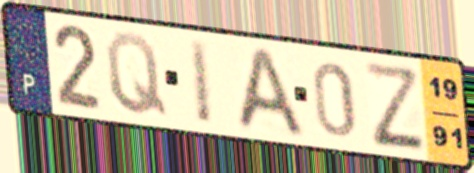0: (310, 59, 360, 139)
2: (51, 22, 105, 115)
A: (232, 44, 309, 141)
I: (186, 36, 216, 127)
Q: (103, 30, 171, 120)
Z: (360, 58, 429, 150)
